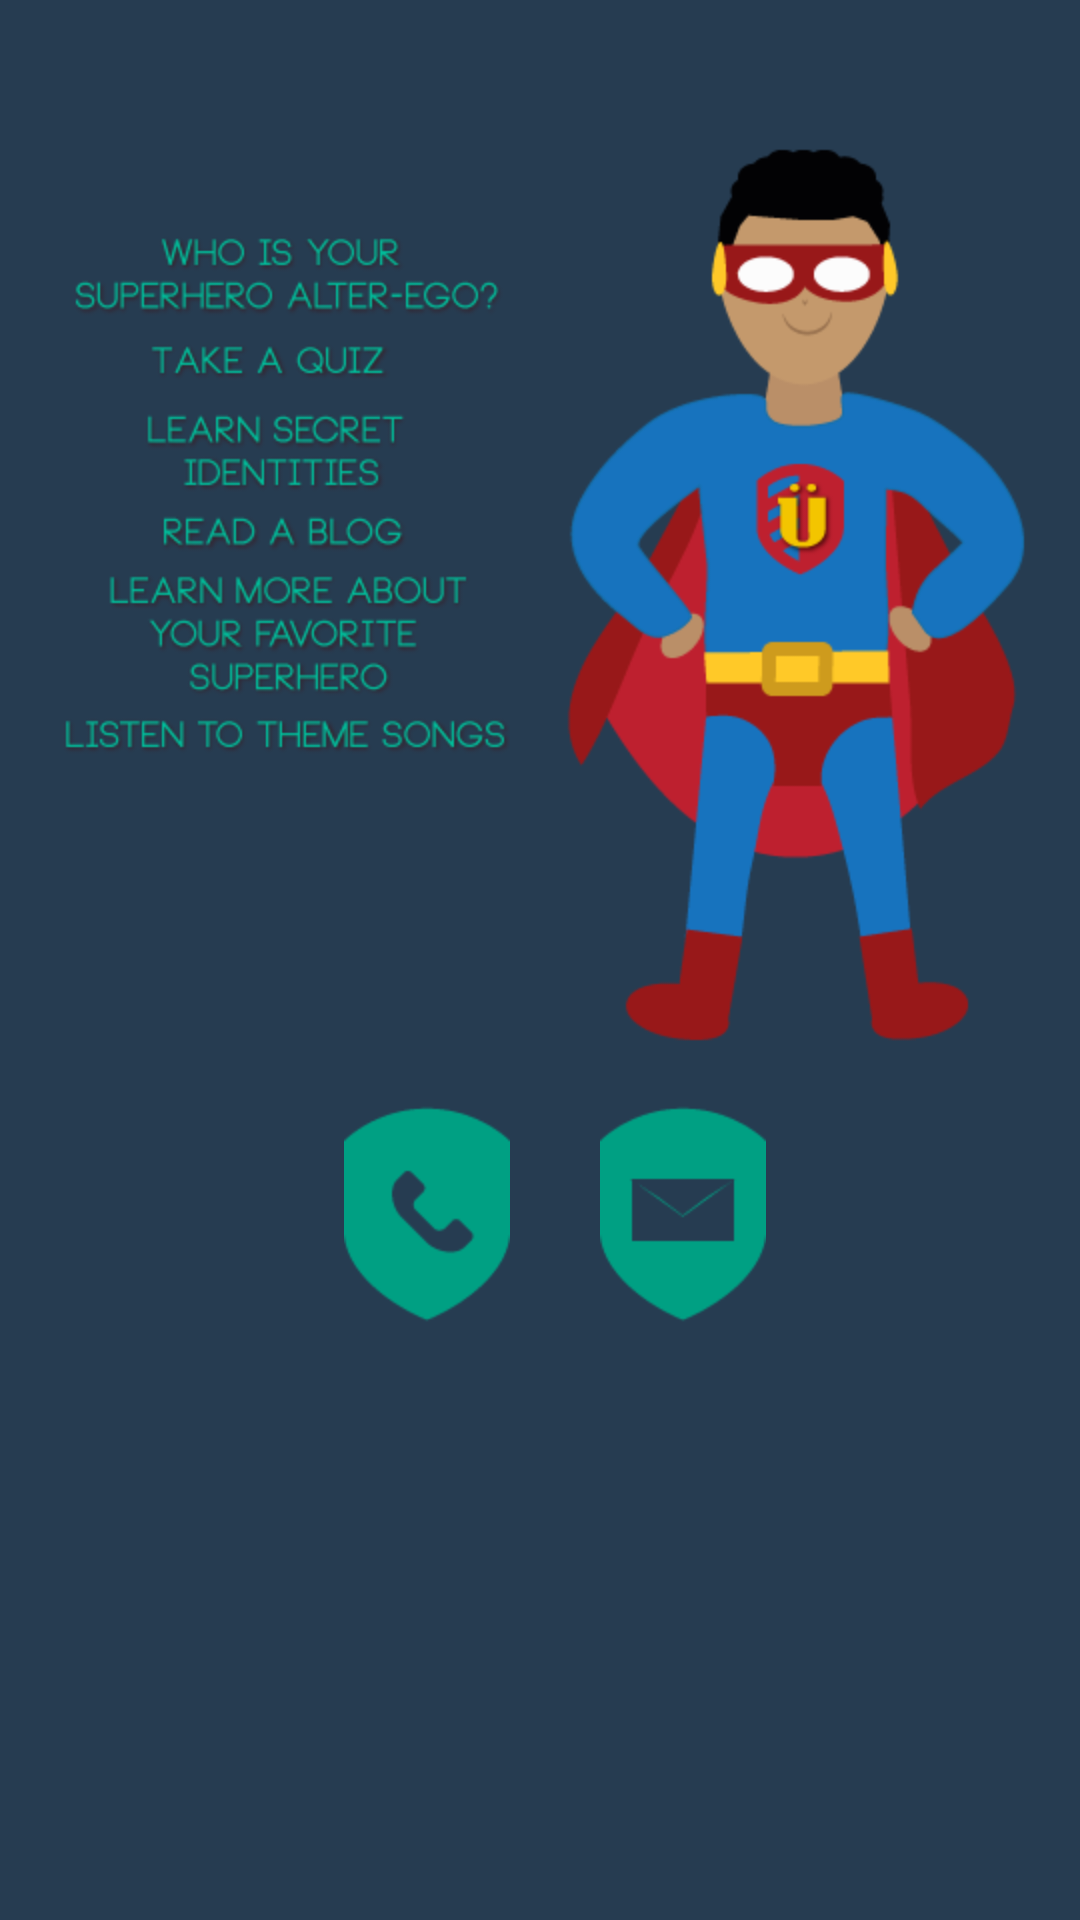

Screen size 1080 x 1920. Icon name, then its center in pixels as (x=x, y=y):
mail: (x=683, y=1214)
phone: (x=427, y=1214)
